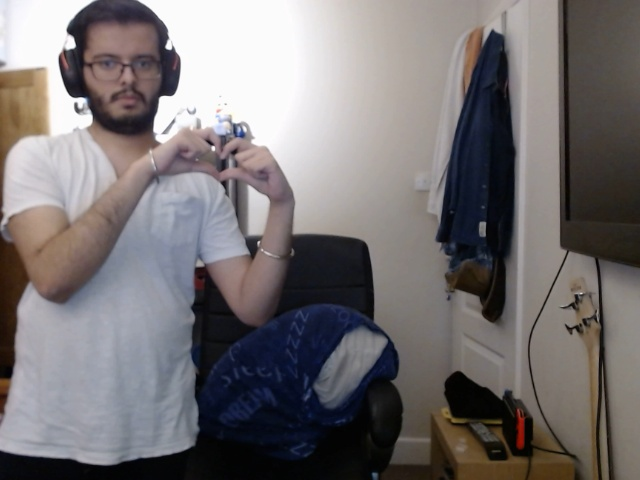Heart: (158, 123, 294, 194)
